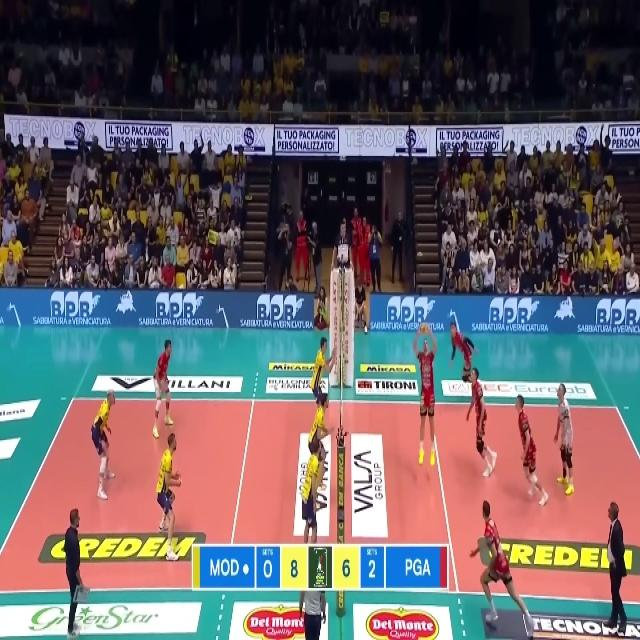volleyball court: (1, 396, 639, 599)
